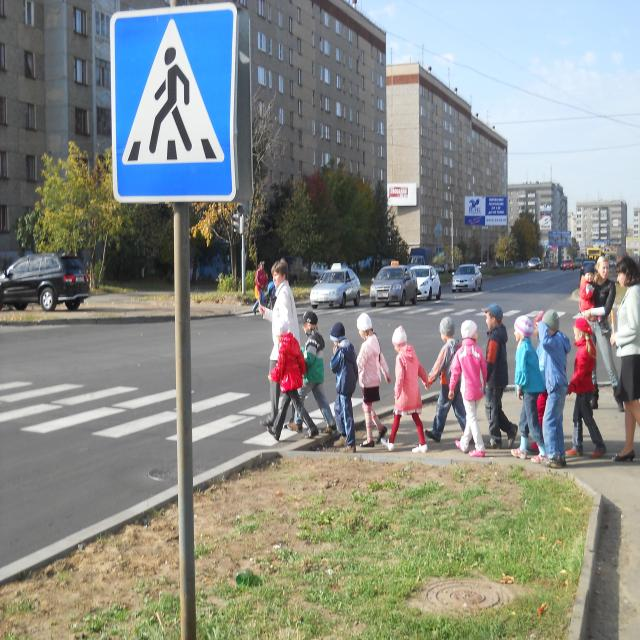Traffic sign: (103, 11, 267, 205)
